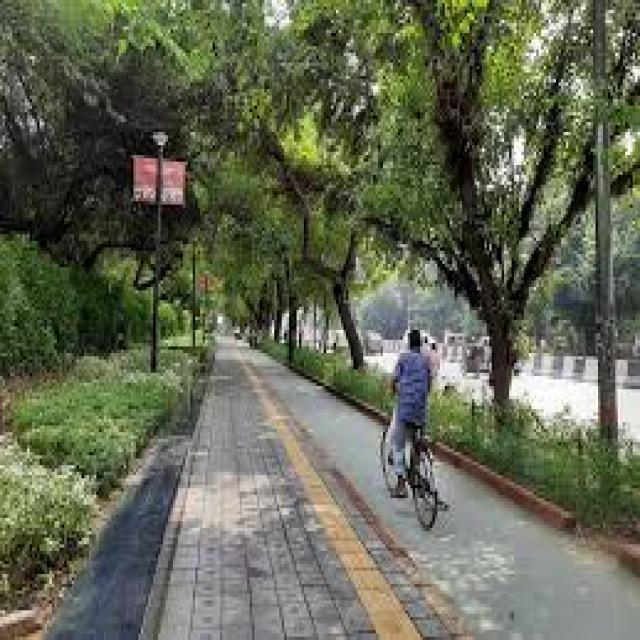bicycle ahead at: (380, 330, 455, 526)
